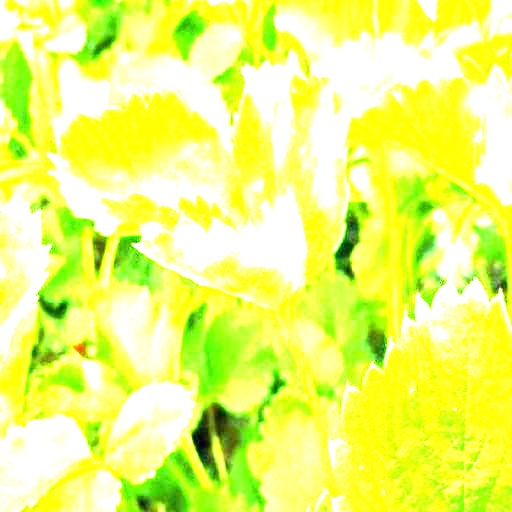Powdery Mildew Leaf: (133, 190, 308, 314)
